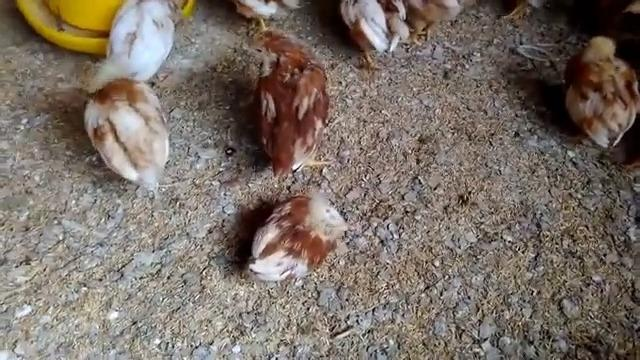AbNormal: (244, 183, 360, 295)
